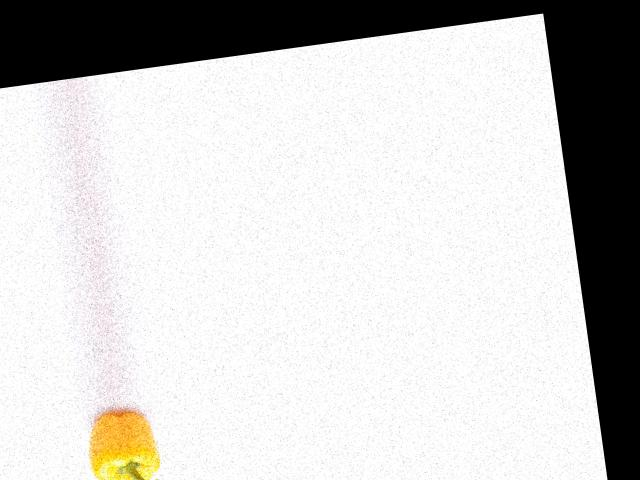bell_pepper: (76, 405, 167, 480)
